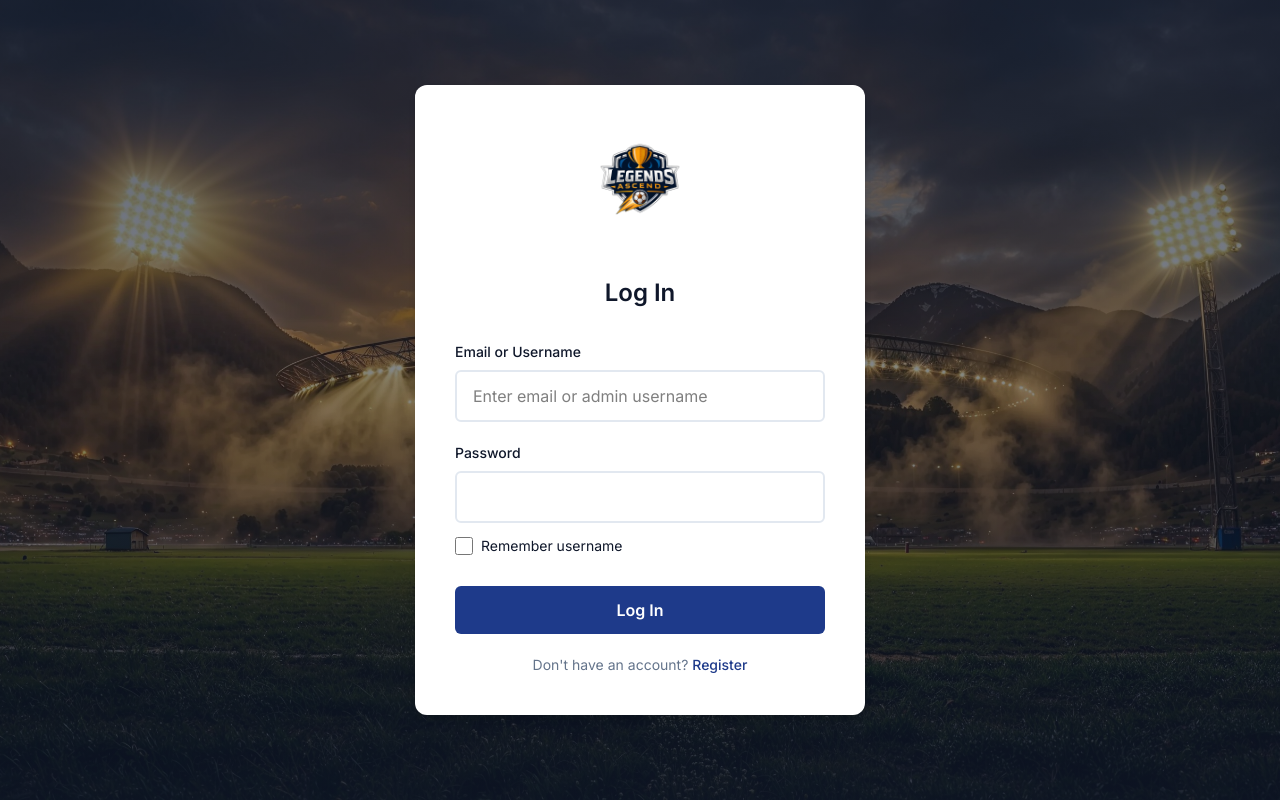
it: LoginPage › should display error message on login failure
Type "test@example.com" into the field labelled "Email or Username" at (640, 396), box [455,370,825,422]
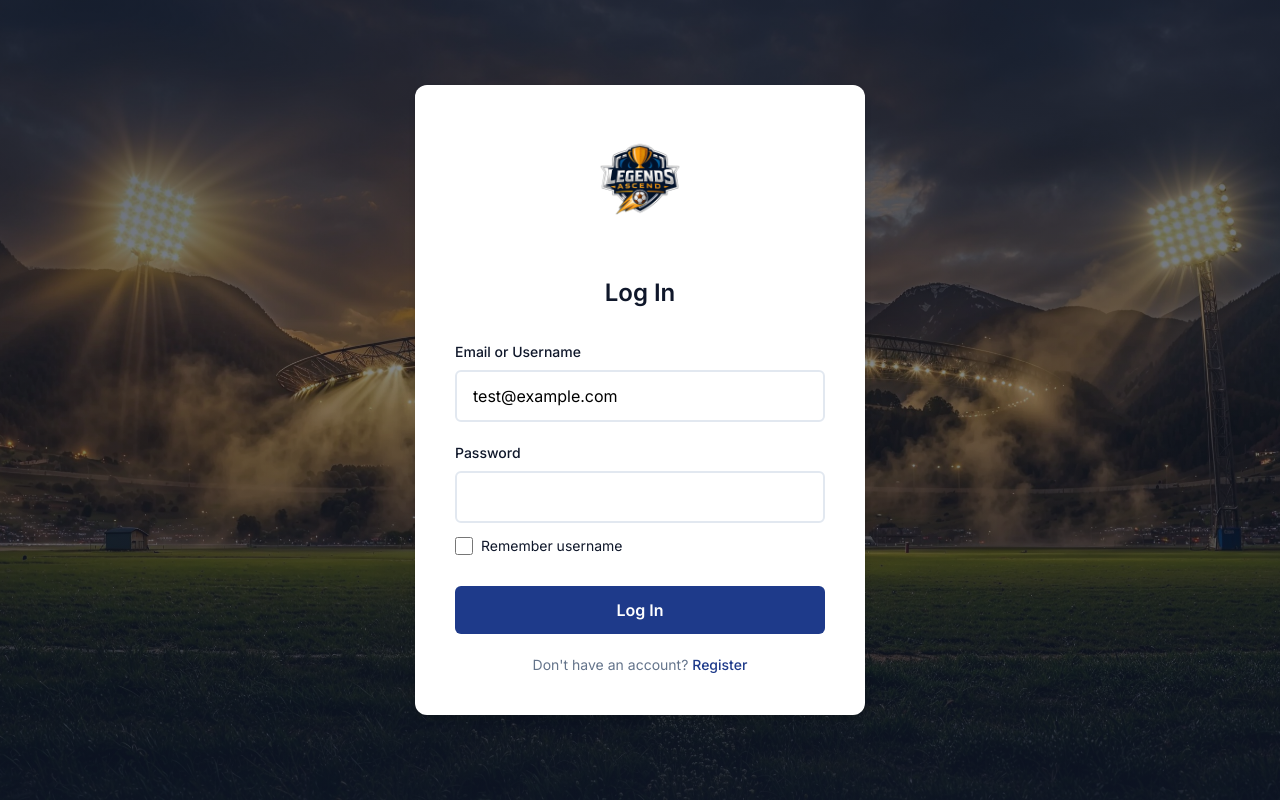
Type "wrongpassword" into the password field labelled "Password" at (640, 497), box [455,471,825,523]
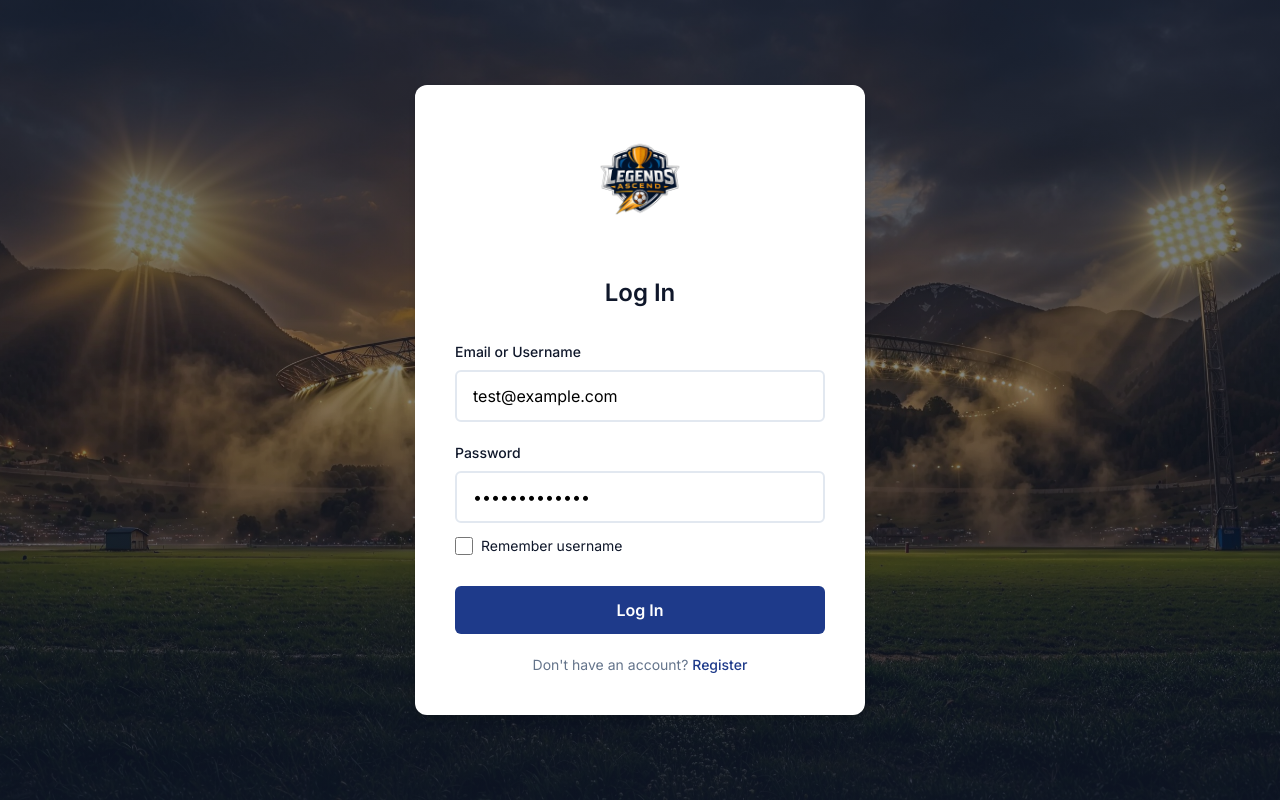
Click the button "Log In" at (640, 610), box [455,586,825,634]
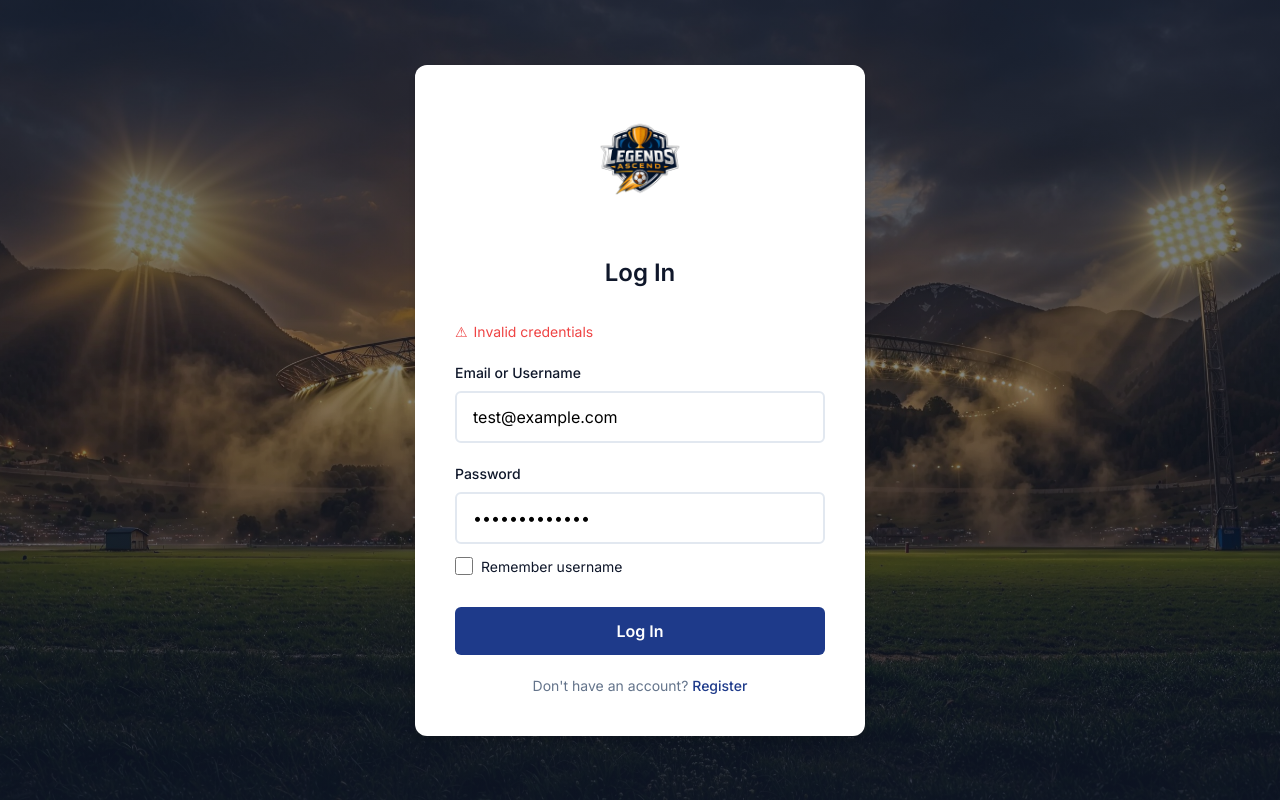
Result: the text "Invalid credentials" is shown at [474,322,593,340]
